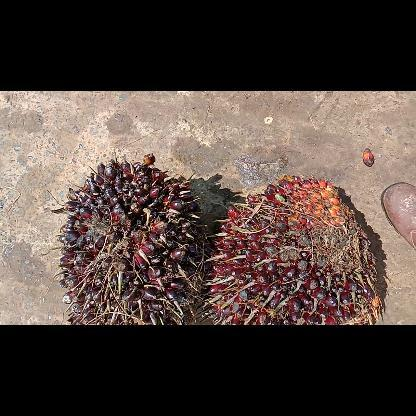TBS mentah: (200, 174, 382, 324), (50, 152, 200, 324)
